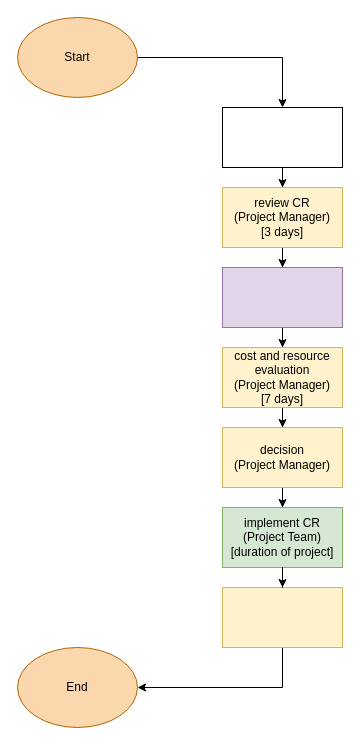
Some shapes in this 360 by 745 pixel diagram are drawn without their labels. Each missing label, with the centre of its shape:
close CR (Project Manager): the point at 282,617
submit CR (Initiator): the point at 282,137
triage CR (Technical Experts) [5 days]: the point at 282,297
